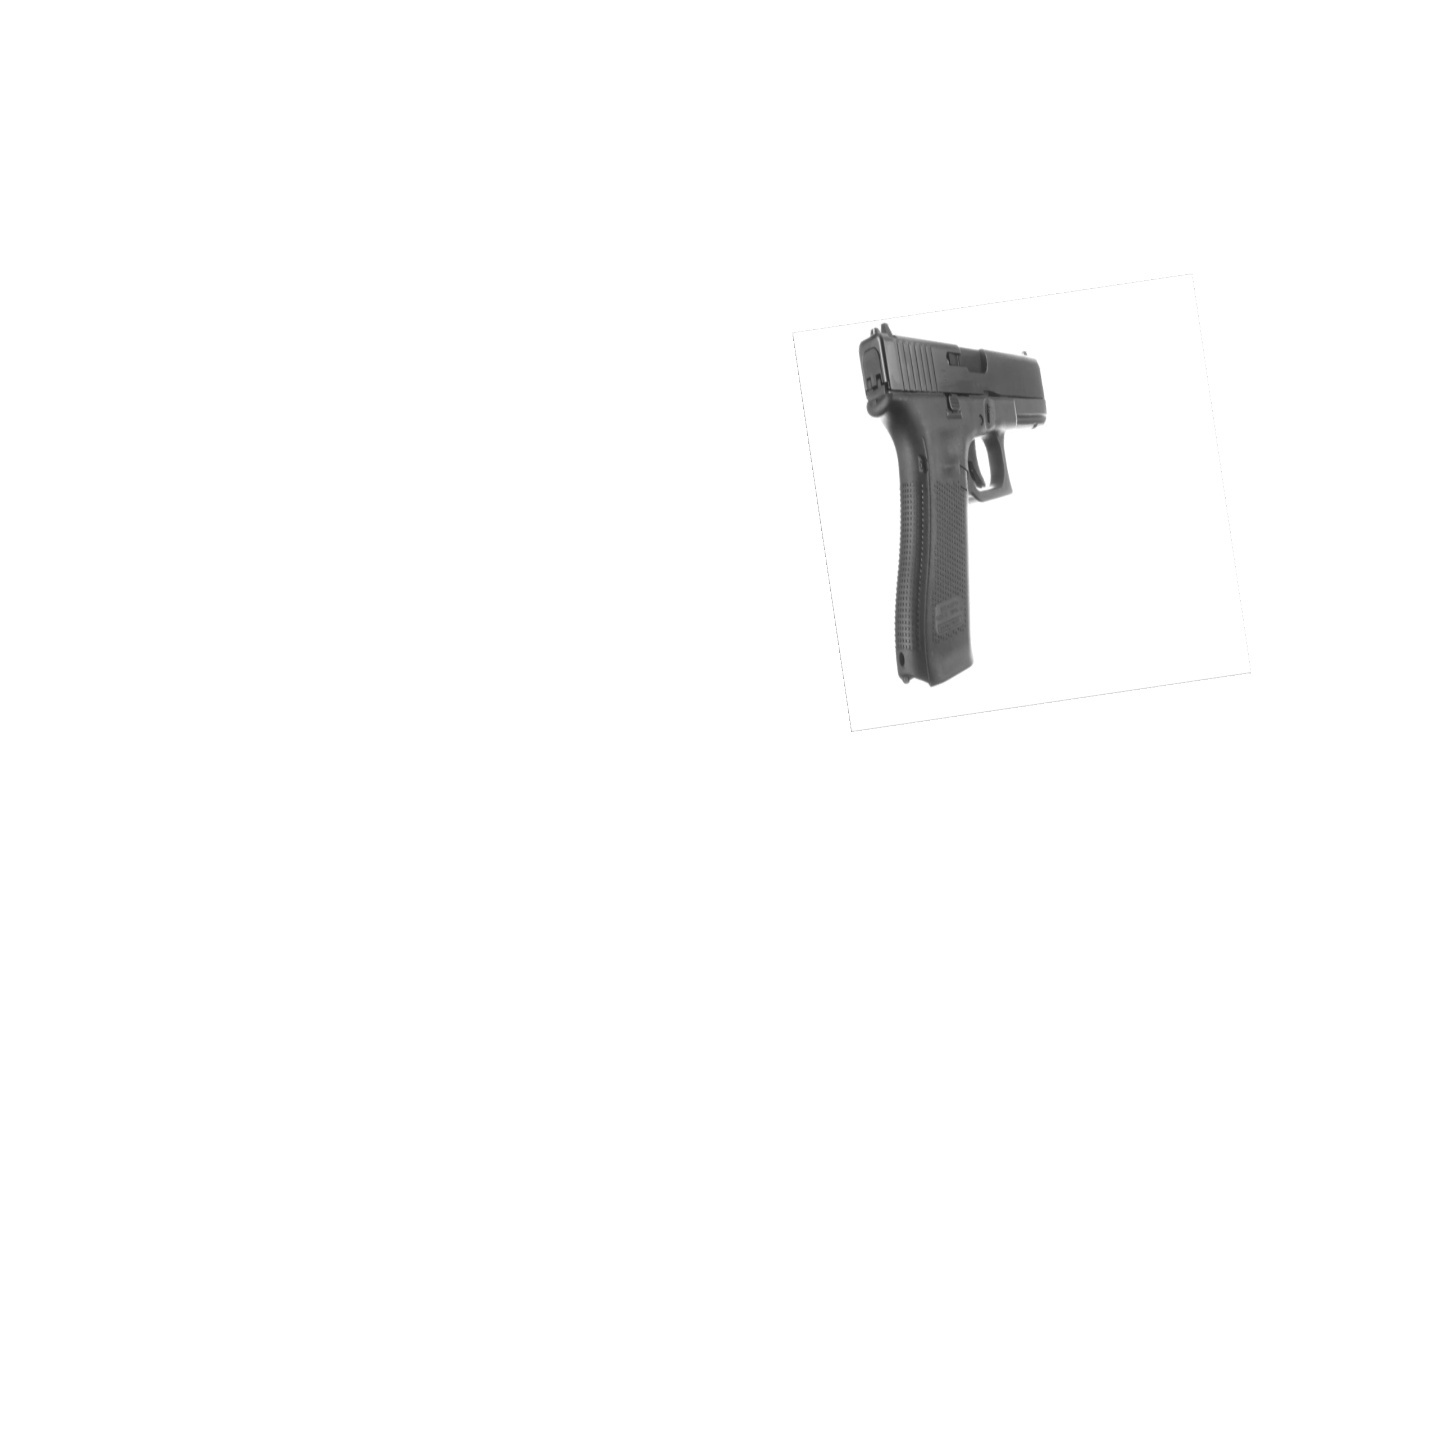gun: (859, 323, 1048, 687)
